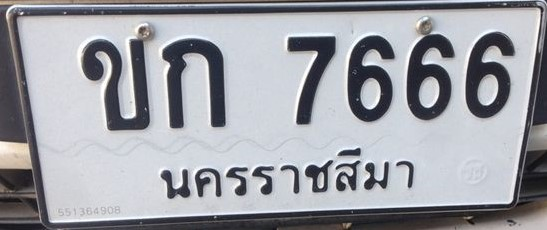txt01: (158, 36, 230, 130)
txt02: (76, 34, 154, 133)
